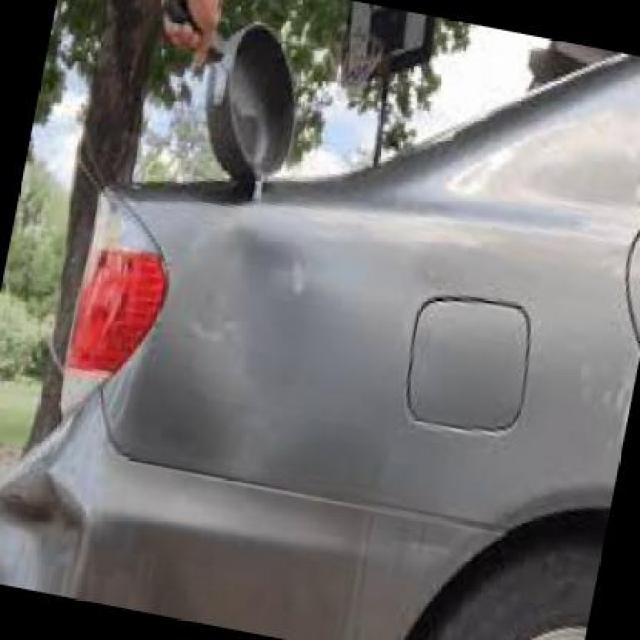dent: (200, 232, 309, 394)
